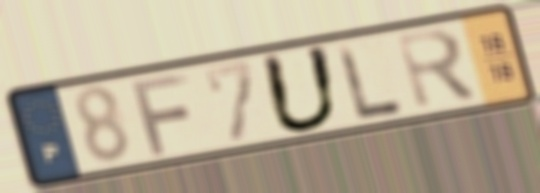7: (200, 58, 258, 146)
8: (71, 83, 134, 169)
F: (127, 69, 194, 158)
L: (332, 40, 407, 124)
R: (391, 25, 483, 114)
U: (257, 42, 344, 136)
